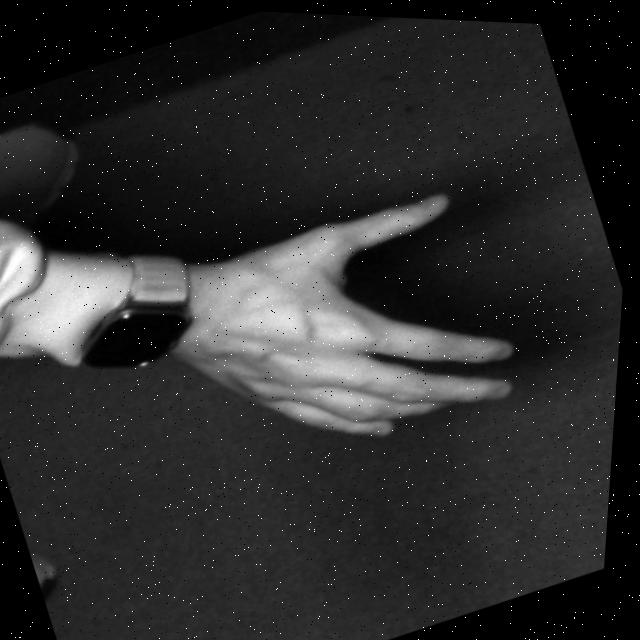hand: (164, 152, 544, 499)
